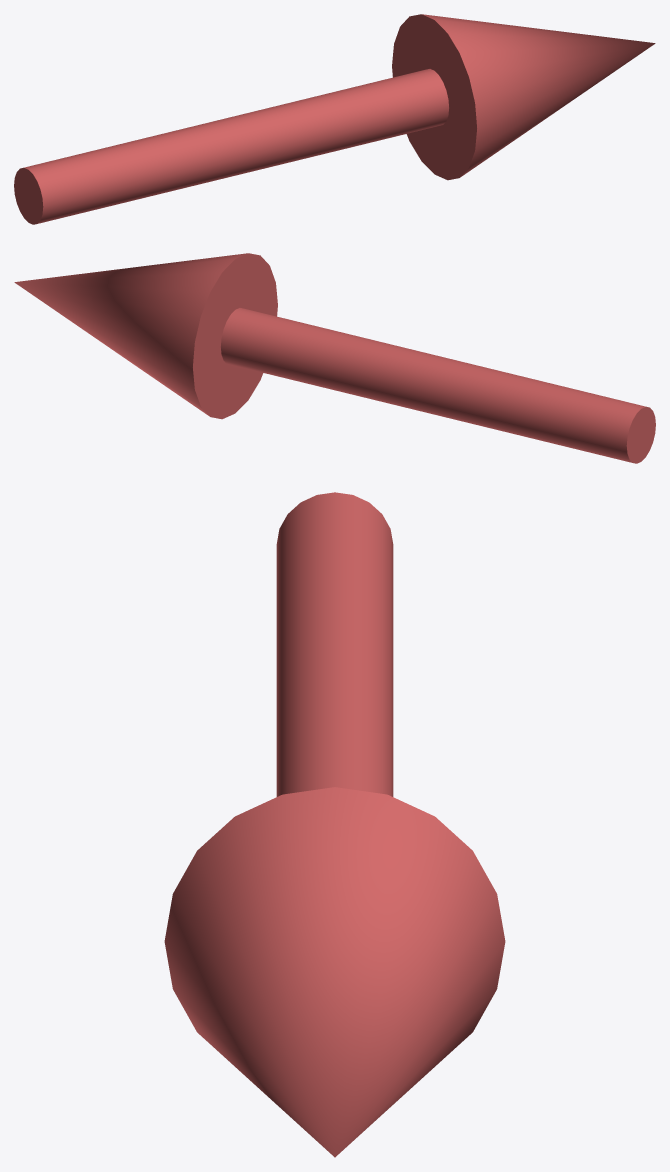
File: X_Arrow.fbx
The picture shows the model from 3 angles, top to bottom: view 1: azimuth 30°, elevation 25°; view 2: azimuth 150°, elevation 25°; view 3: azimuth 270°, elevation 25°; orthographic projection. The views are drawn at different scales.
Visible parts, largest first — view 1: pCone2; view 2: pCone2; view 3: pCone2.
Boxes of the visible parts, box(x1,y1,x2,y2) form: pCone2: box(14, 14, 655, 224); pCone2: box(14, 253, 655, 463); pCone2: box(164, 492, 505, 1157).
Bounding box in the file's own units: 4.25 × 1 × 1.
